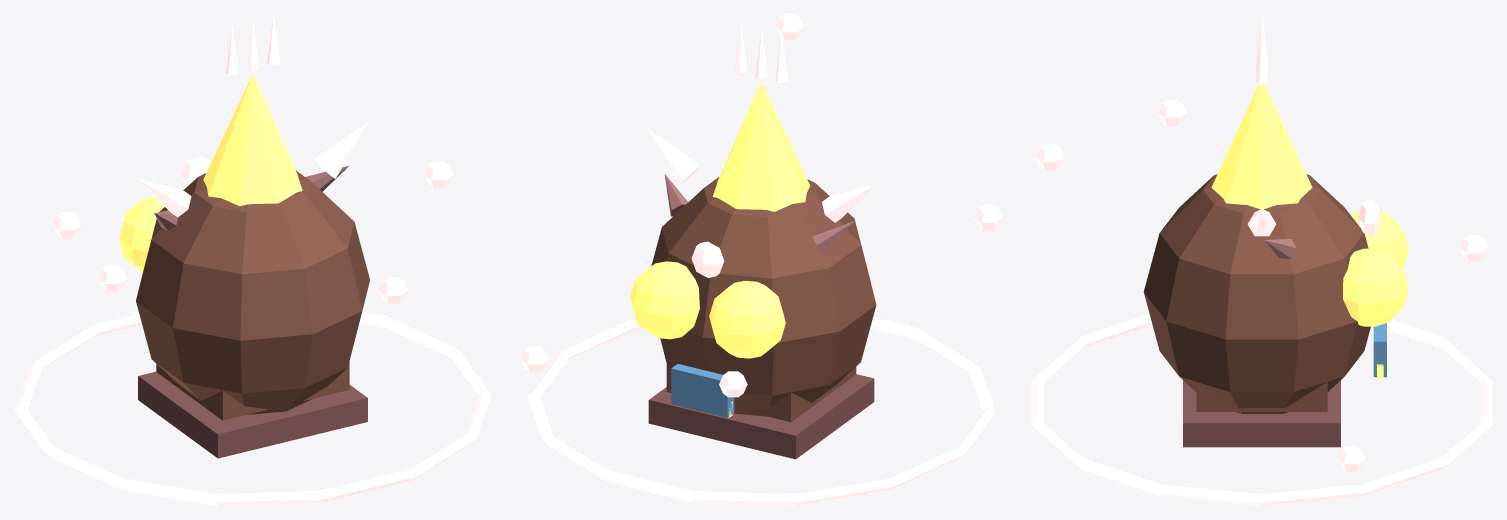
Rendered from evolved_furnace.glb.
The picture shows the model from 3 angles, left to right: view 1: azimuth 30°, elevation 25°; view 2: azimuth 150°, elevation 25°; view 3: azimuth 270°, elevation 25°; orthographic projection.
Parts seen in each view (by area): view 1: evolved_furnace; view 2: evolved_furnace; view 3: evolved_furnace.
Boxes of the visible parts, box(x1,y1,x2,y2) form: evolved_furnace: box(14, 15, 491, 505); evolved_furnace: box(520, 14, 1002, 505); evolved_furnace: box(1031, 15, 1492, 505).
Size of the model in its own units: 3.96 by 3.58 by 3.86.
